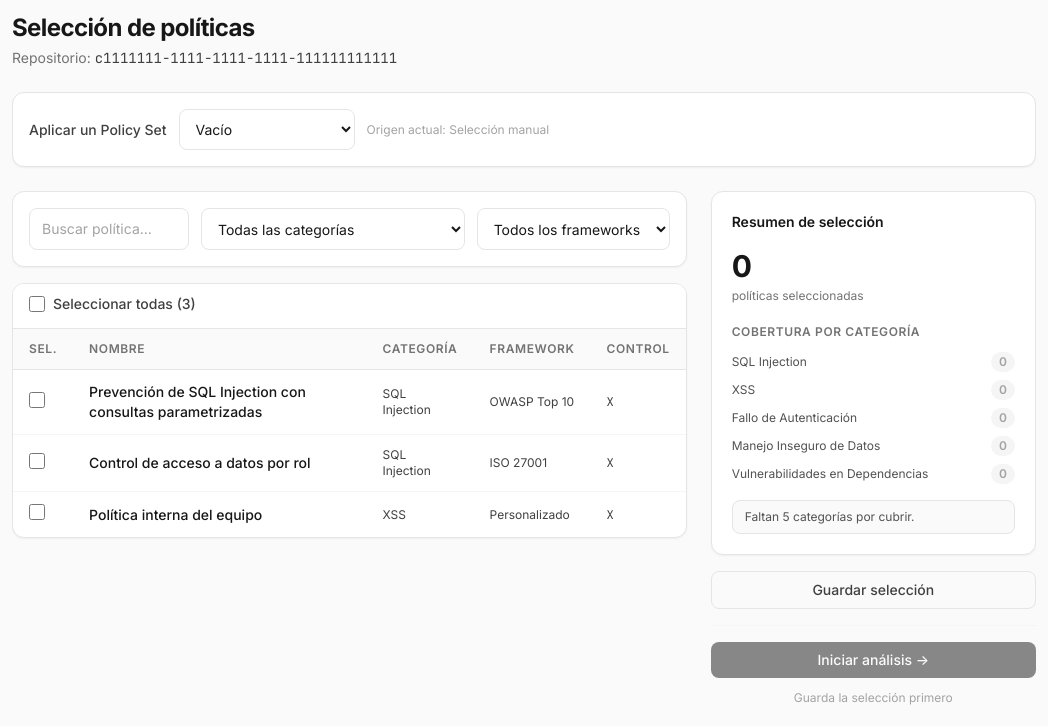
Test: Policy Set is actually usable from the analysis flow › unchecking a policy from a Policy Set preview -- before ever clicking "Aplicar" -- still warns about the divergence
Select "Perfil PDG ICESI (2)" in the dropdown named "elegir un policy set para aplicar" at (267, 130), box [179,109,355,150]
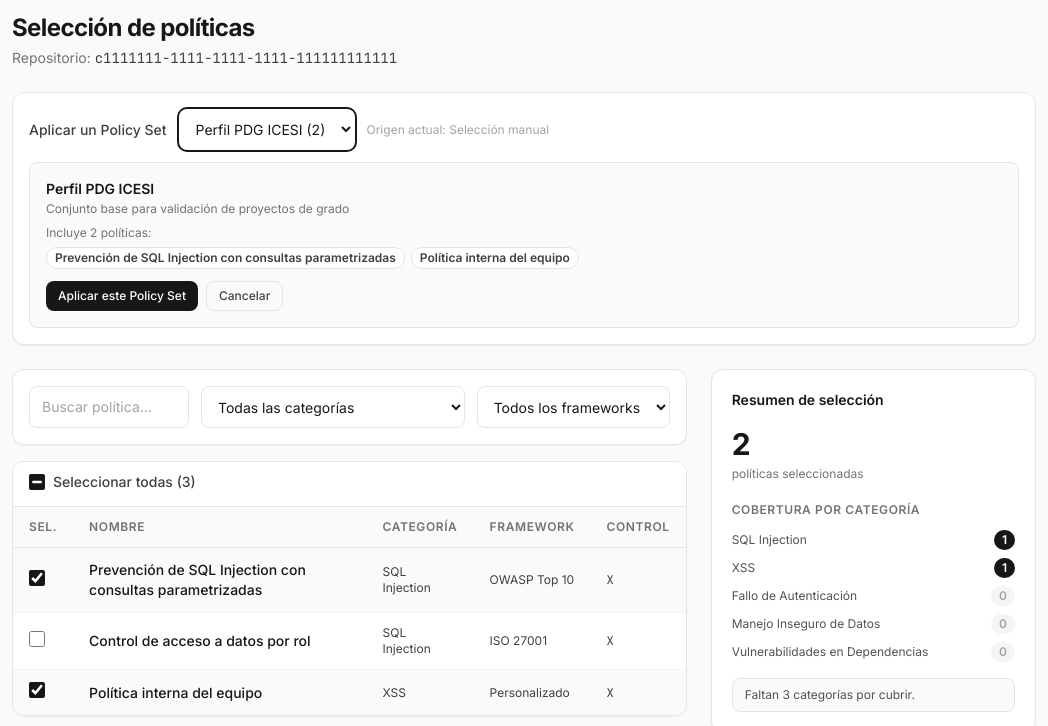
Check: the text "ya no coincide exactamente" is not shown
Check: the text "Incluye 2 políticas:" is shown, box [46,225,152,240]
Click the checkbox named "Prevención de SQL Injection con consultas parametrizadas" at (37, 578), box [29,570,45,586]
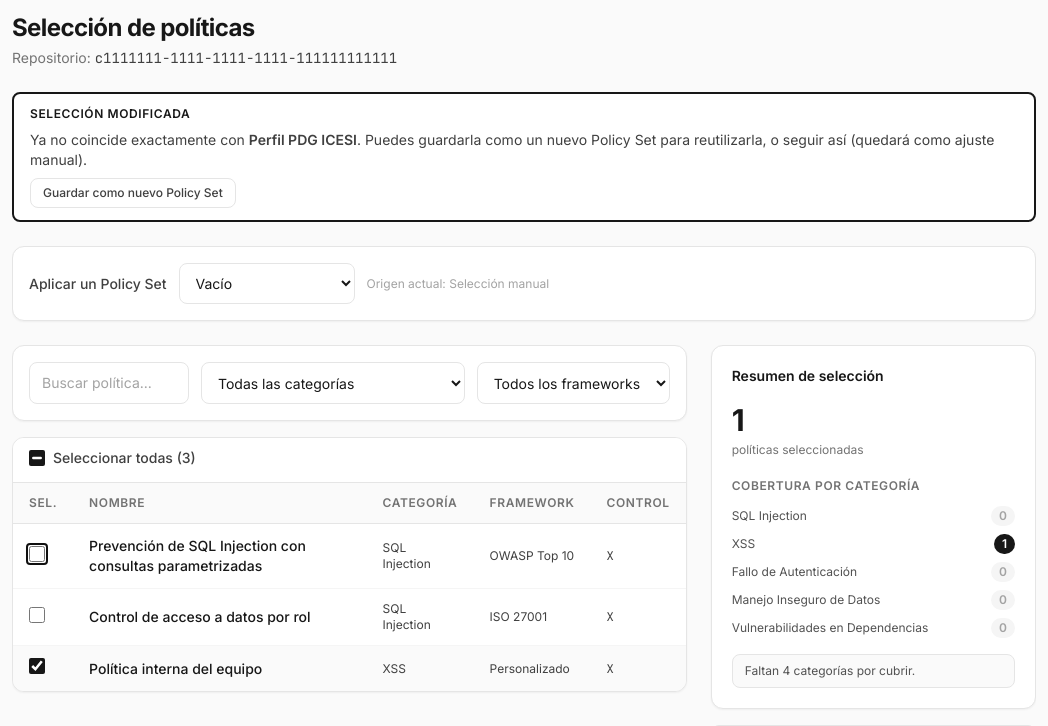
Check: the text "Ya no coincide exactamente" is shown, box [30,131,245,148]
Check: the button "Guardar como nuevo Policy Set" is shown, box [30,178,236,208]
